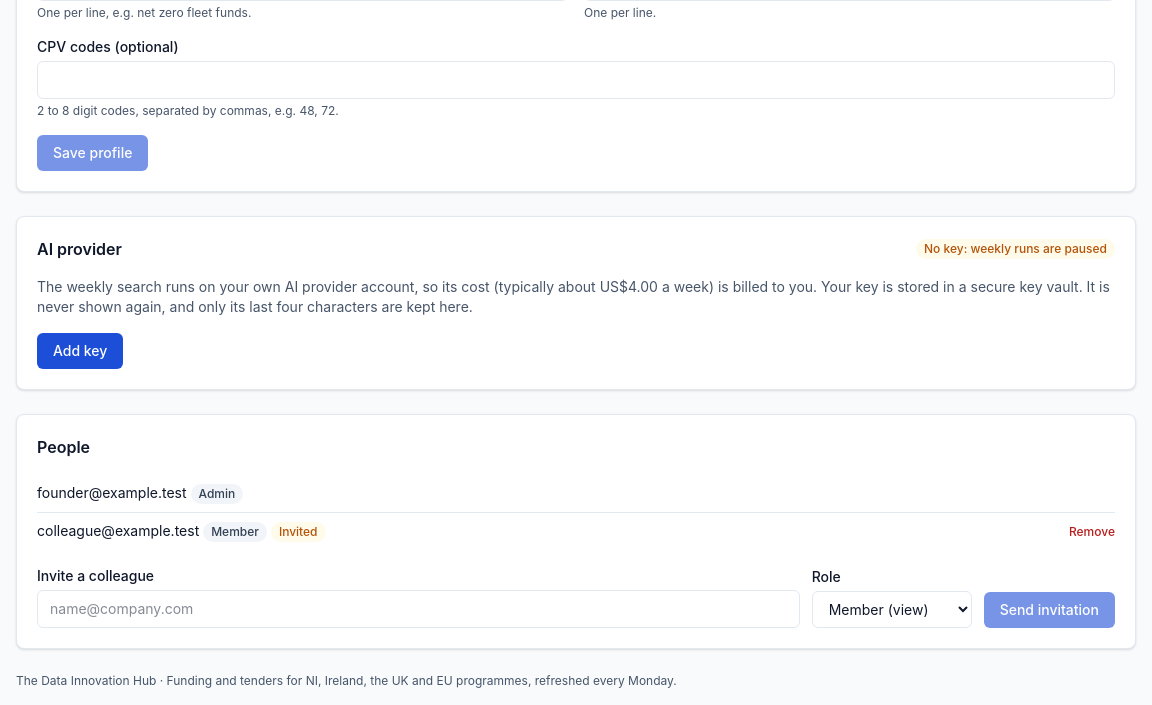
Test case: a rejected API key is cleared from the page and the error is shown
(page scrolled)
Step 1. Click the button "Add key" → (80, 351), box x1=37 y1=333 x2=123 y2=369
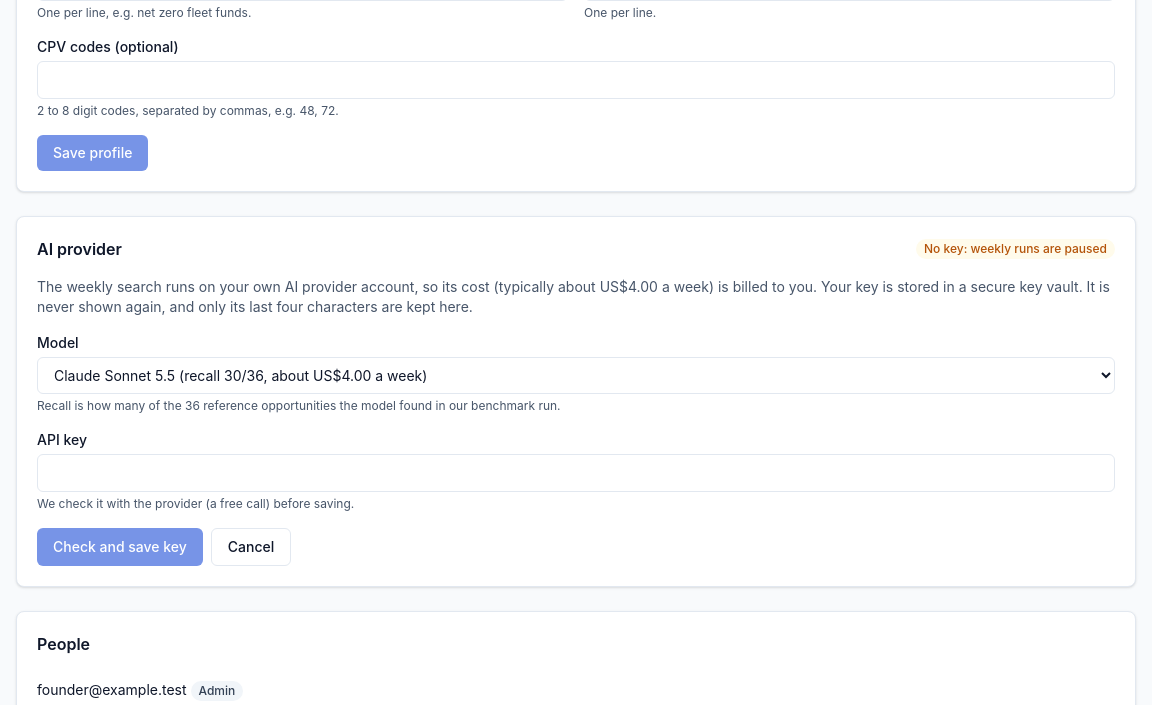
Step 2. Type "sk-ant-not-a-real-key-000000" into the password field labelled "API key" → (576, 473), box x1=37 y1=454 x2=1115 y2=492
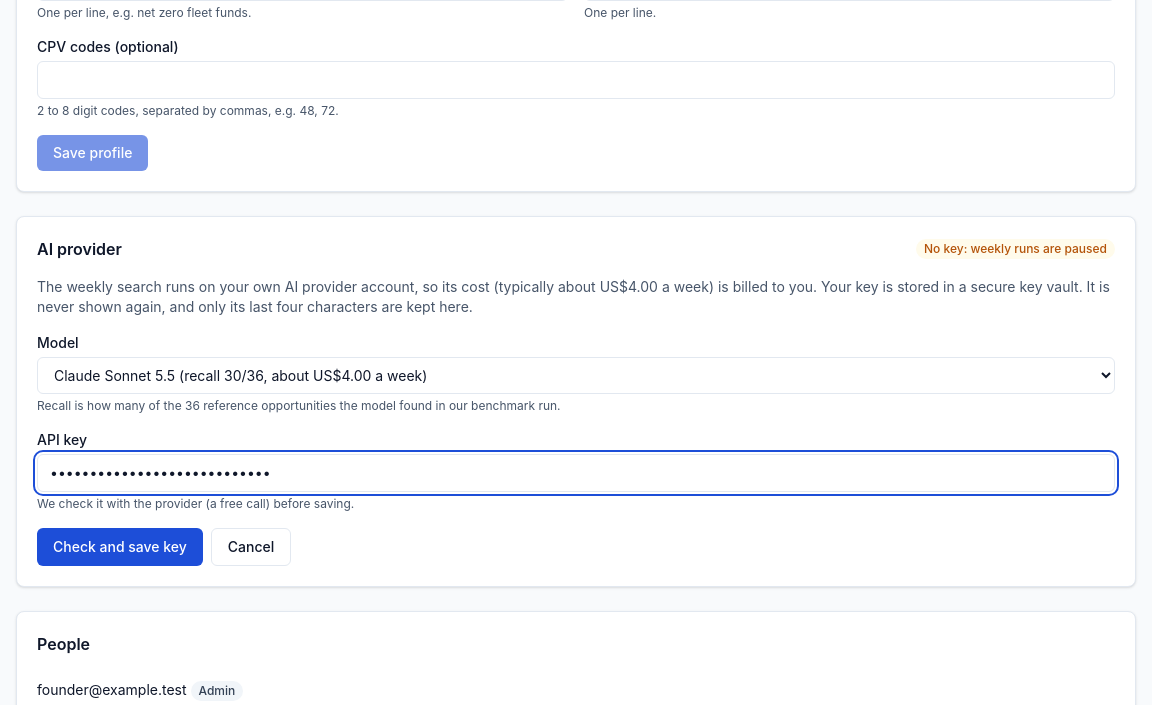
Step 3. Click the button "Check and save key" → (120, 547), box x1=37 y1=528 x2=203 y2=566
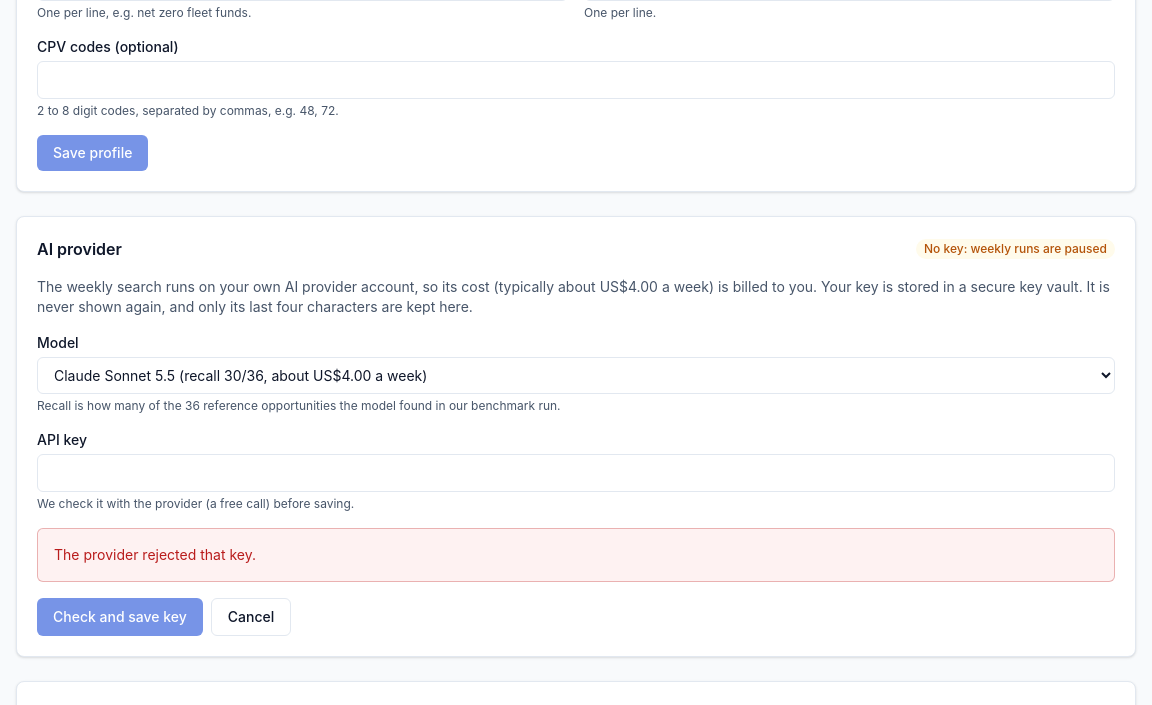
expect the text "The provider rejected that key." is shown: met, box x1=54 y1=546 x2=256 y2=563
expect the password field labelled "API key" is empty: met, box x1=37 y1=454 x2=1115 y2=492
